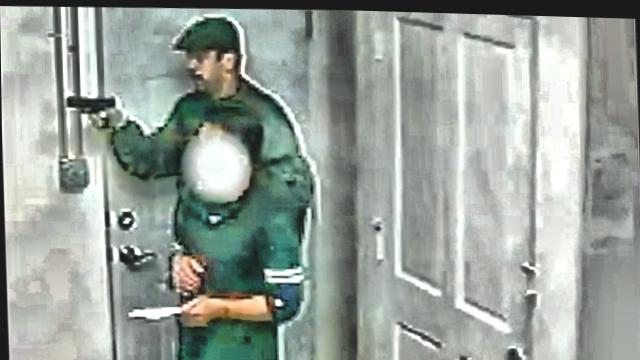pistol: (63, 93, 116, 131)
